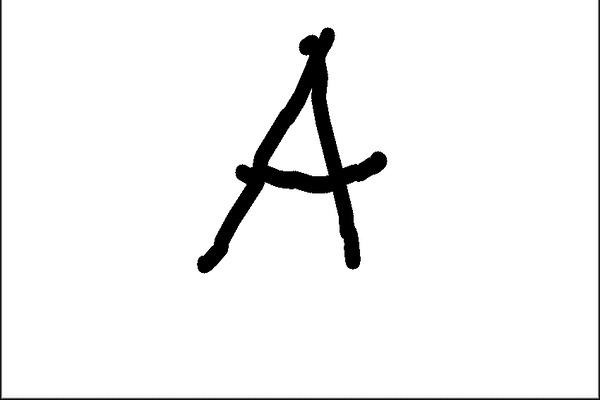A: (179, 19, 384, 283)
